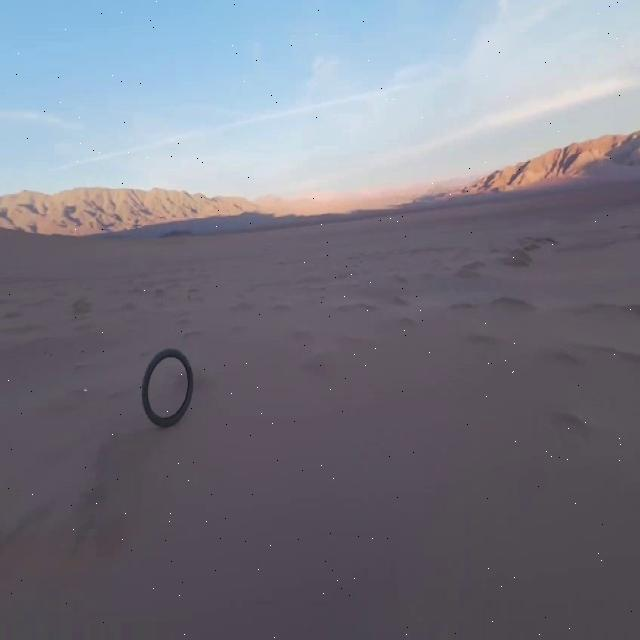Tire: (143, 348, 192, 427)
